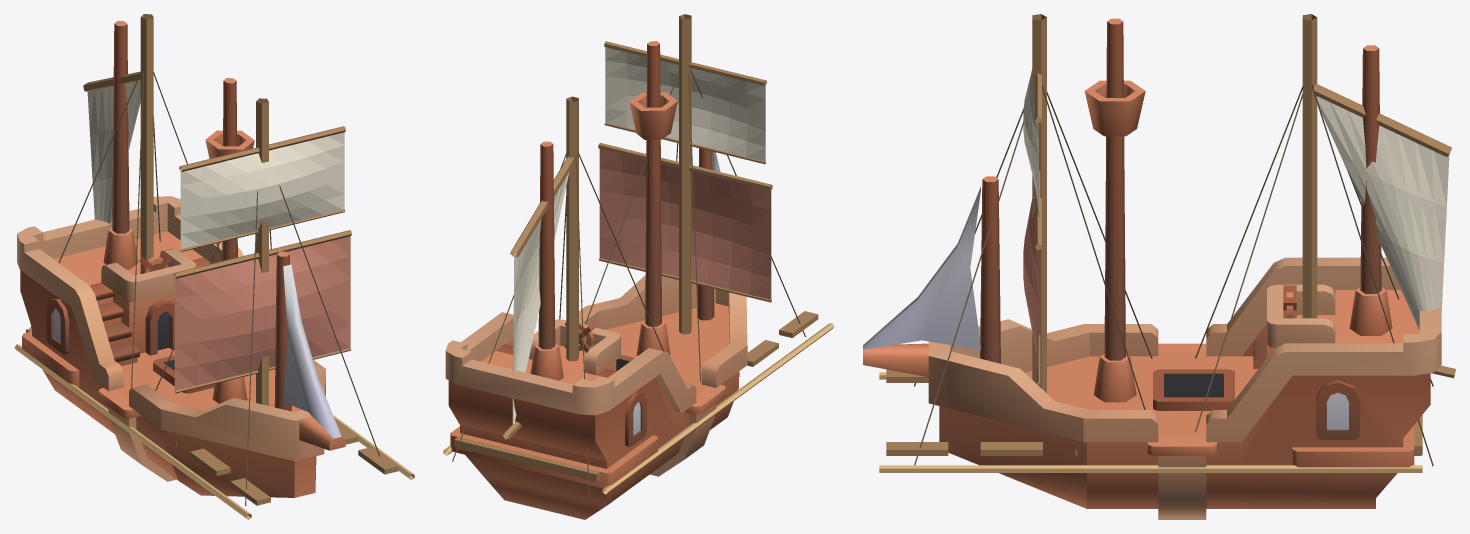
Rendered from brigantine-custom.glb.
3 views of the same model, side by side, from view 1: azimuth 30°, elevation 25°; view 2: azimuth 150°, elevation 25°; view 3: azimuth 270°, elevation 25° (orthographic). The views are drawn at different scales.
Visible parts, largest first — view 1: ship-medium, brigantine stripe, brigantine cloth, brigantine wood, brigantine rope, brigantine trim; view 2: ship-medium, brigantine stripe, brigantine wood, brigantine cloth, brigantine rope, brigantine trim; view 3: ship-medium, brigantine cloth, brigantine wood, brigantine rope, brigantine trim, brigantine stripe.
Part boxes in pixels (<box>): ship-medium: <box>17,21,345,497</box>; brigantine stripe: <box>174,236,350,391</box>; brigantine cloth: <box>87,81,344,250</box>; brigantine wood: <box>26,14,398,505</box>; brigantine rope: <box>30,71,380,505</box>; brigantine trim: <box>14,344,414,519</box>; ship-medium: <box>445,41,747,519</box>; brigantine stripe: <box>599,149,771,300</box>; brigantine wood: <box>454,14,818,482</box>; brigantine cloth: <box>512,47,765,424</box>; brigantine rope: <box>452,69,805,494</box>; brigantine trim: <box>443,323,834,494</box>; ship-medium: <box>863,18,1441,519</box>; brigantine cloth: <box>1023,69,1449,330</box>; brigantine wood: <box>886,14,1455,455</box>; brigantine rope: <box>914,81,1433,466</box>; brigantine trim: <box>879,372,1422,472</box>; brigantine stripe: <box>1023,199,1038,382</box>.
Size of the model in its own units: 4.51 by 9.75 by 10.97.
Materials: 7 (1 with a texture image).
